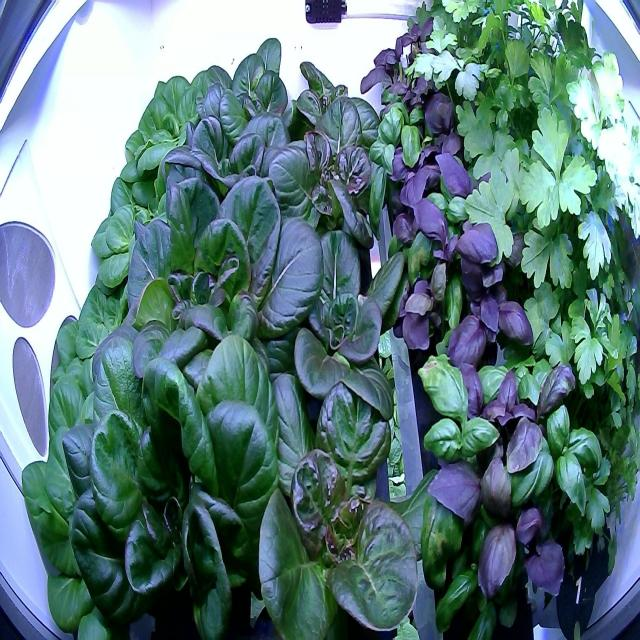Ready: (53, 312, 307, 639), (112, 160, 328, 450), (17, 382, 195, 639), (41, 256, 200, 468), (160, 98, 304, 288), (84, 161, 218, 316), (192, 17, 303, 200), (113, 60, 235, 212)
young: (232, 349, 432, 640), (250, 211, 420, 443), (264, 88, 407, 258), (274, 48, 388, 182)
